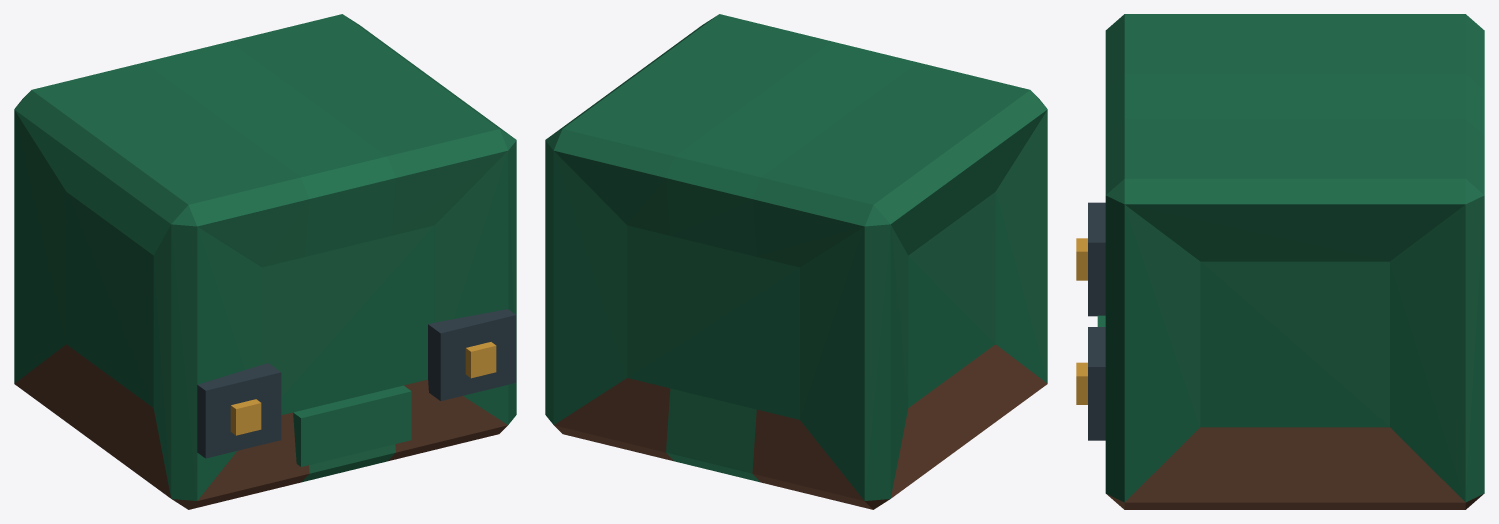
File: small-crate-mint.glb
3 renders of one model, left to right at view 1: azimuth 30°, elevation 25°; view 2: azimuth 150°, elevation 25°; view 3: azimuth 270°, elevation 25°, orthographic. The views are drawn at different scales.
Parts seen in each view (by area): view 1: small-crate-mint; view 2: small-crate-mint; view 3: small-crate-mint.
Boxes of the visible parts, <box> form: small-crate-mint: <box>14,14,516,509</box>; small-crate-mint: <box>545,14,1047,509</box>; small-crate-mint: <box>1076,14,1484,509</box>.
Size of the model in its own units: 0.64 by 0.54 by 0.6033.
